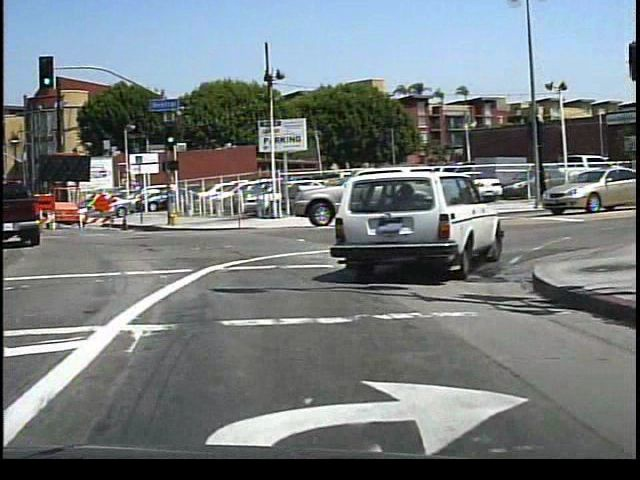person: (531, 163, 550, 206)
